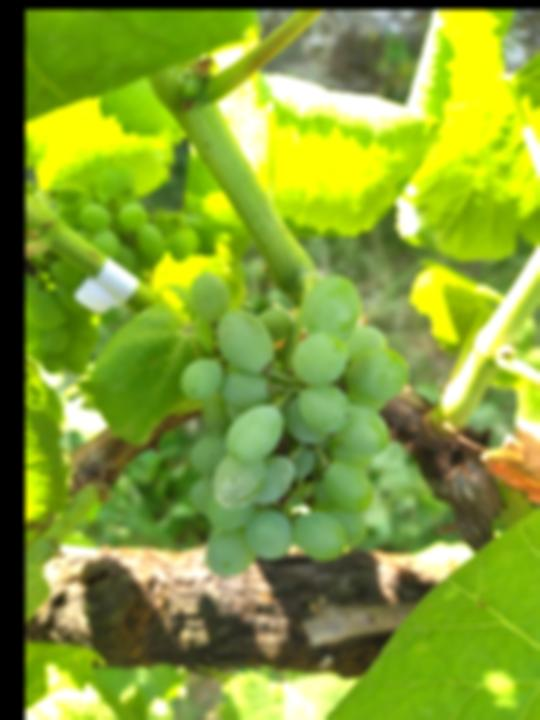grape: (179, 265, 413, 582)
